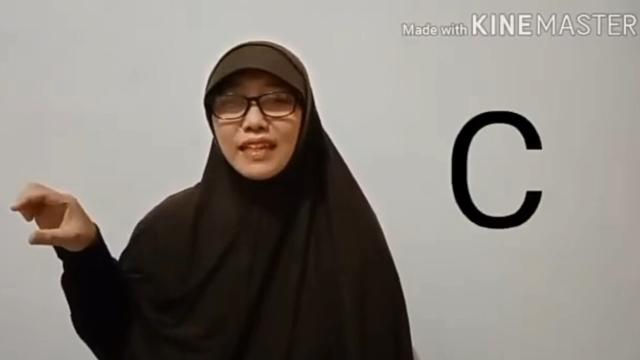C: (10, 181, 94, 251)
